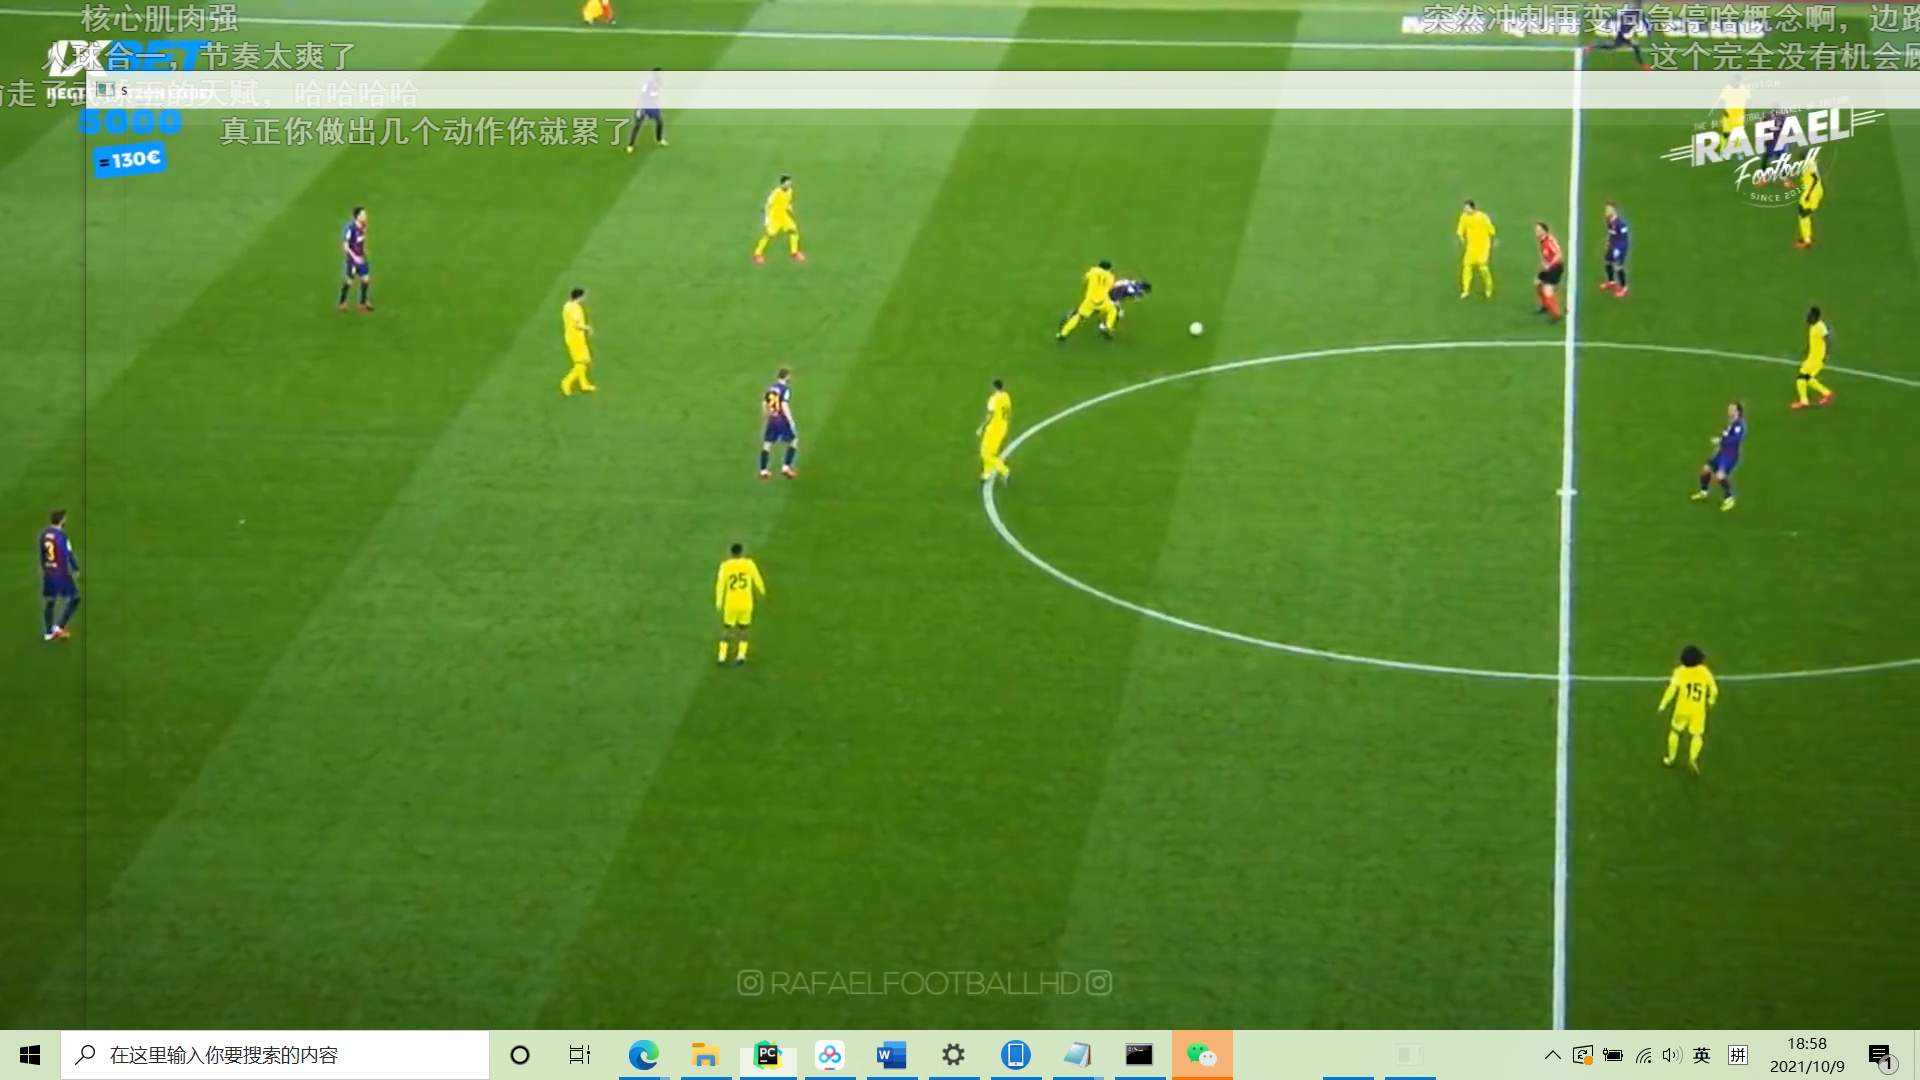ft: (1176, 313, 1211, 342)
